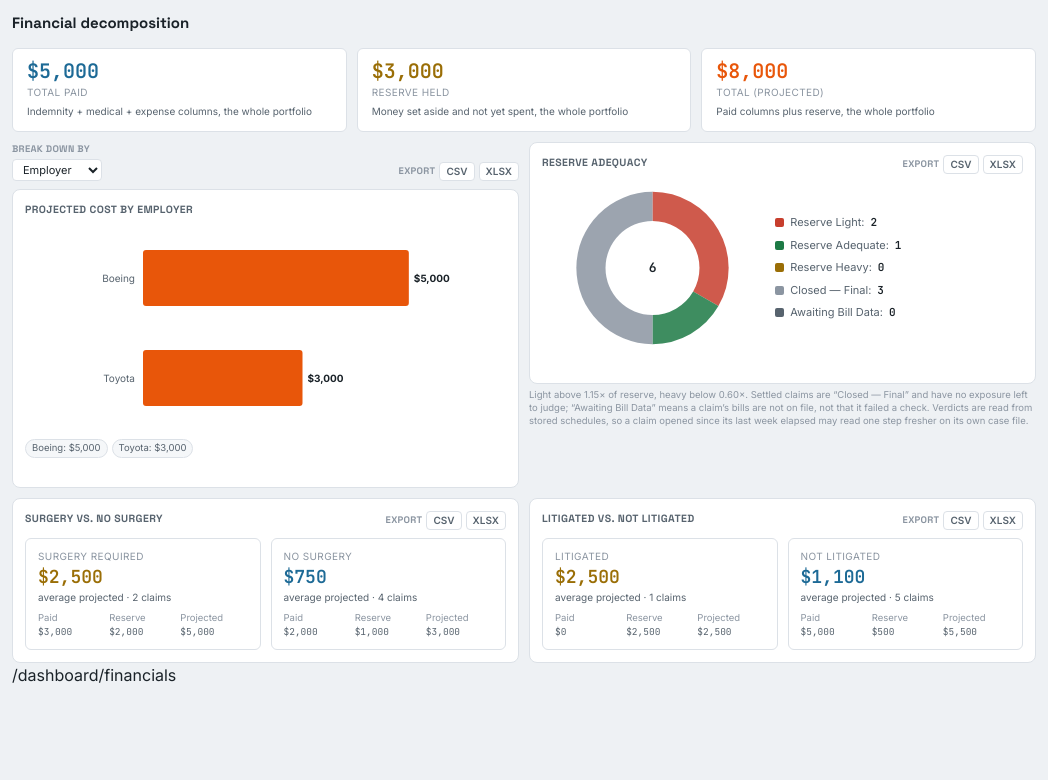
Test case: a breakdown group opens its own facet with its own key
Click the button with test id "financial-breakdown-bars-value-link": (153, 448) [112,439,194,458]
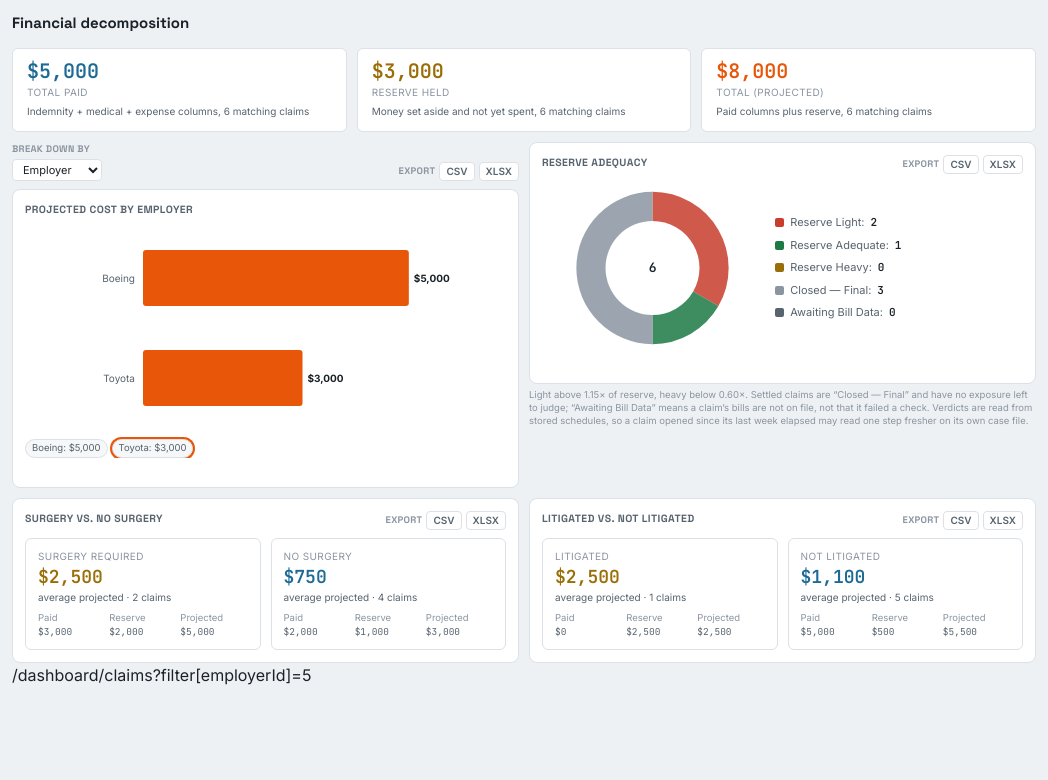
Result: the text with test id "location" reads "/dashboard/claims?filter[employerId]=5" at [12,665,311,685]
